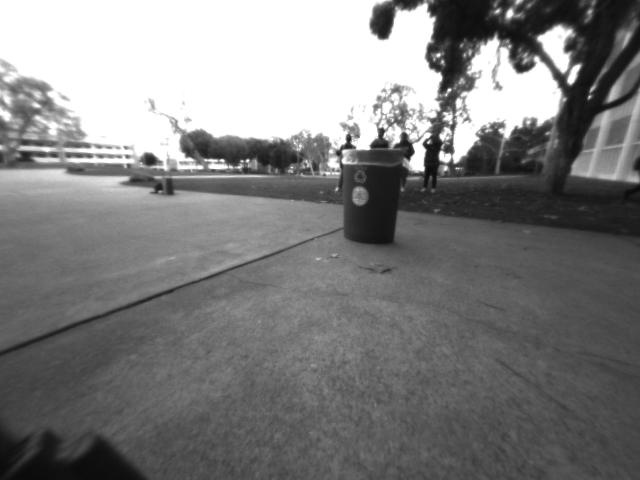trashcan_open: (339, 145, 403, 246)
